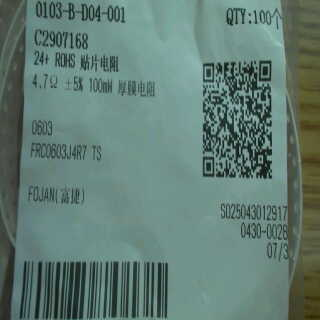4.7R: (31, 71, 61, 91)
